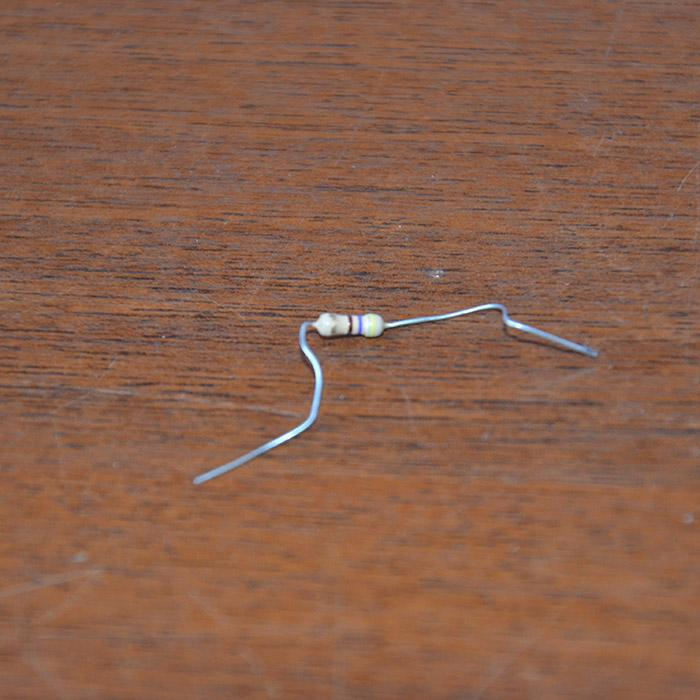resistor: (361, 309, 388, 383)
